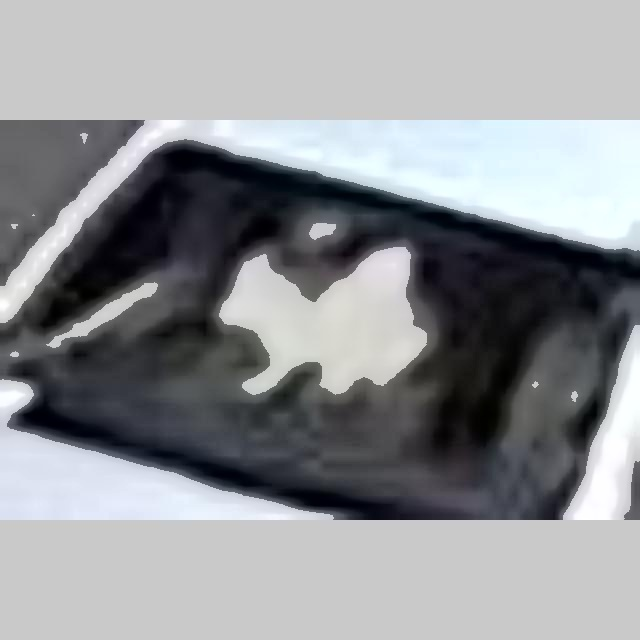tidak-pakai: (180, 200, 440, 420)
